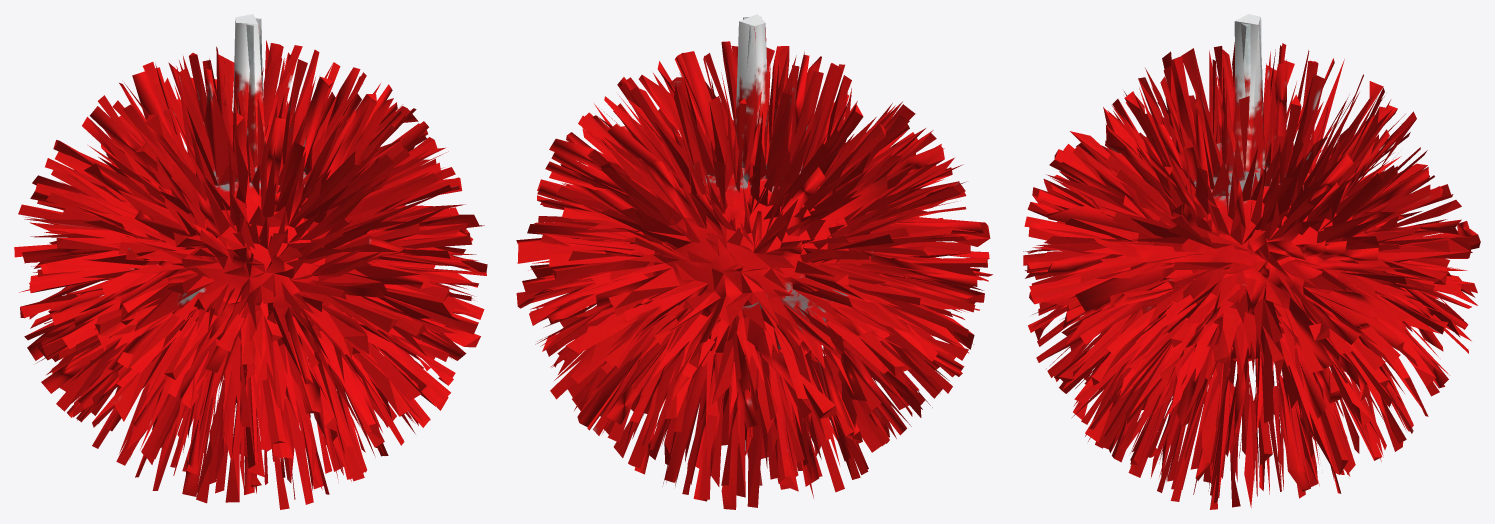
File: Pompon.fbx
The picture shows the model from 3 angles, left to right: view 1: azimuth 30°, elevation 25°; view 2: azimuth 150°, elevation 25°; view 3: azimuth 270°, elevation 25°; orthographic projection.
Parts seen in each view (by area): view 1: output_unwrapped; view 2: output_unwrapped; view 3: output_unwrapped.
Boxes of the visible parts, x1,y1,x2,y2 form: output_unwrapped: (14, 14, 487, 509); output_unwrapped: (516, 14, 992, 509); output_unwrapped: (1023, 14, 1480, 509).
Bounding box in the file's own units: 179 × 190 × 174.
Materials: 1 (1 with a texture image).
